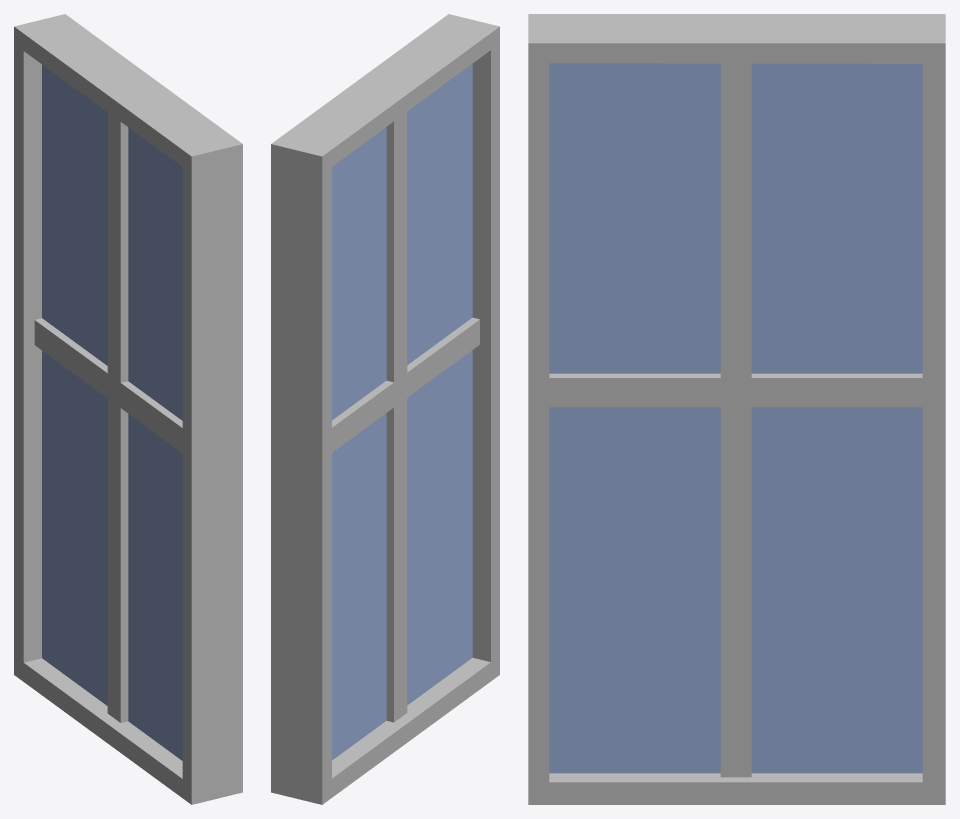
Rendered from SM_Window_03_A.gltf.
The picture shows the model from 3 angles, left to right: view 1: azimuth 30°, elevation 25°; view 2: azimuth 150°, elevation 25°; view 3: azimuth 270°, elevation 25°; orthographic projection. The views are drawn at different scales.
Visible parts, largest first — view 1: Window_03_A; view 2: Window_03_A; view 3: Window_03_A.
Part boxes in pixels (box(x1,y1,x2,y2)): Window_03_A: box(14, 14, 242, 804); Window_03_A: box(271, 14, 499, 804); Window_03_A: box(528, 14, 945, 804).
Bounding box in the file's own units: 0.1165 × 1.41 × 0.7.
